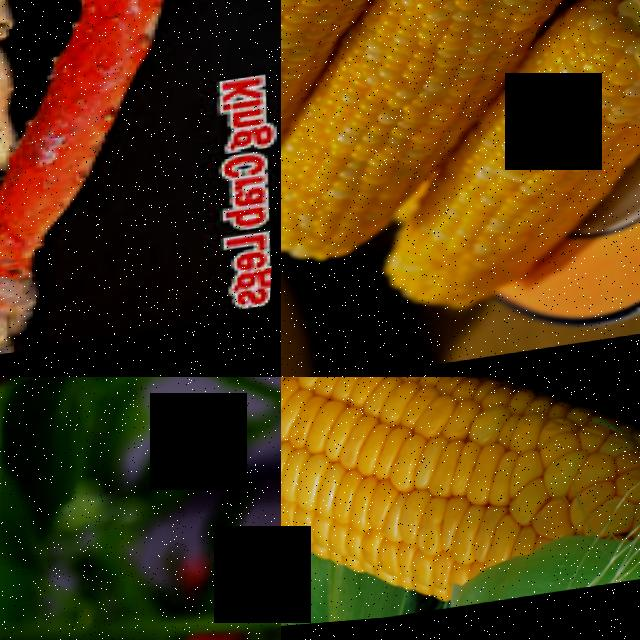chilli: (236, 483, 281, 586)
corn: (301, 377, 640, 620), (381, 147, 614, 315), (356, 0, 591, 123), (281, 101, 454, 267), (510, 0, 640, 169), (281, 377, 400, 533), (281, 0, 422, 87)
crab: (0, 0, 198, 360)
